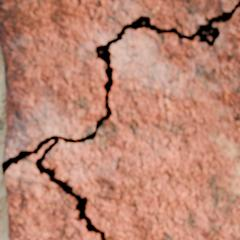brick: (43, 8, 239, 239), (0, 0, 237, 159), (4, 149, 100, 239)
crack: (1, 0, 239, 239)
